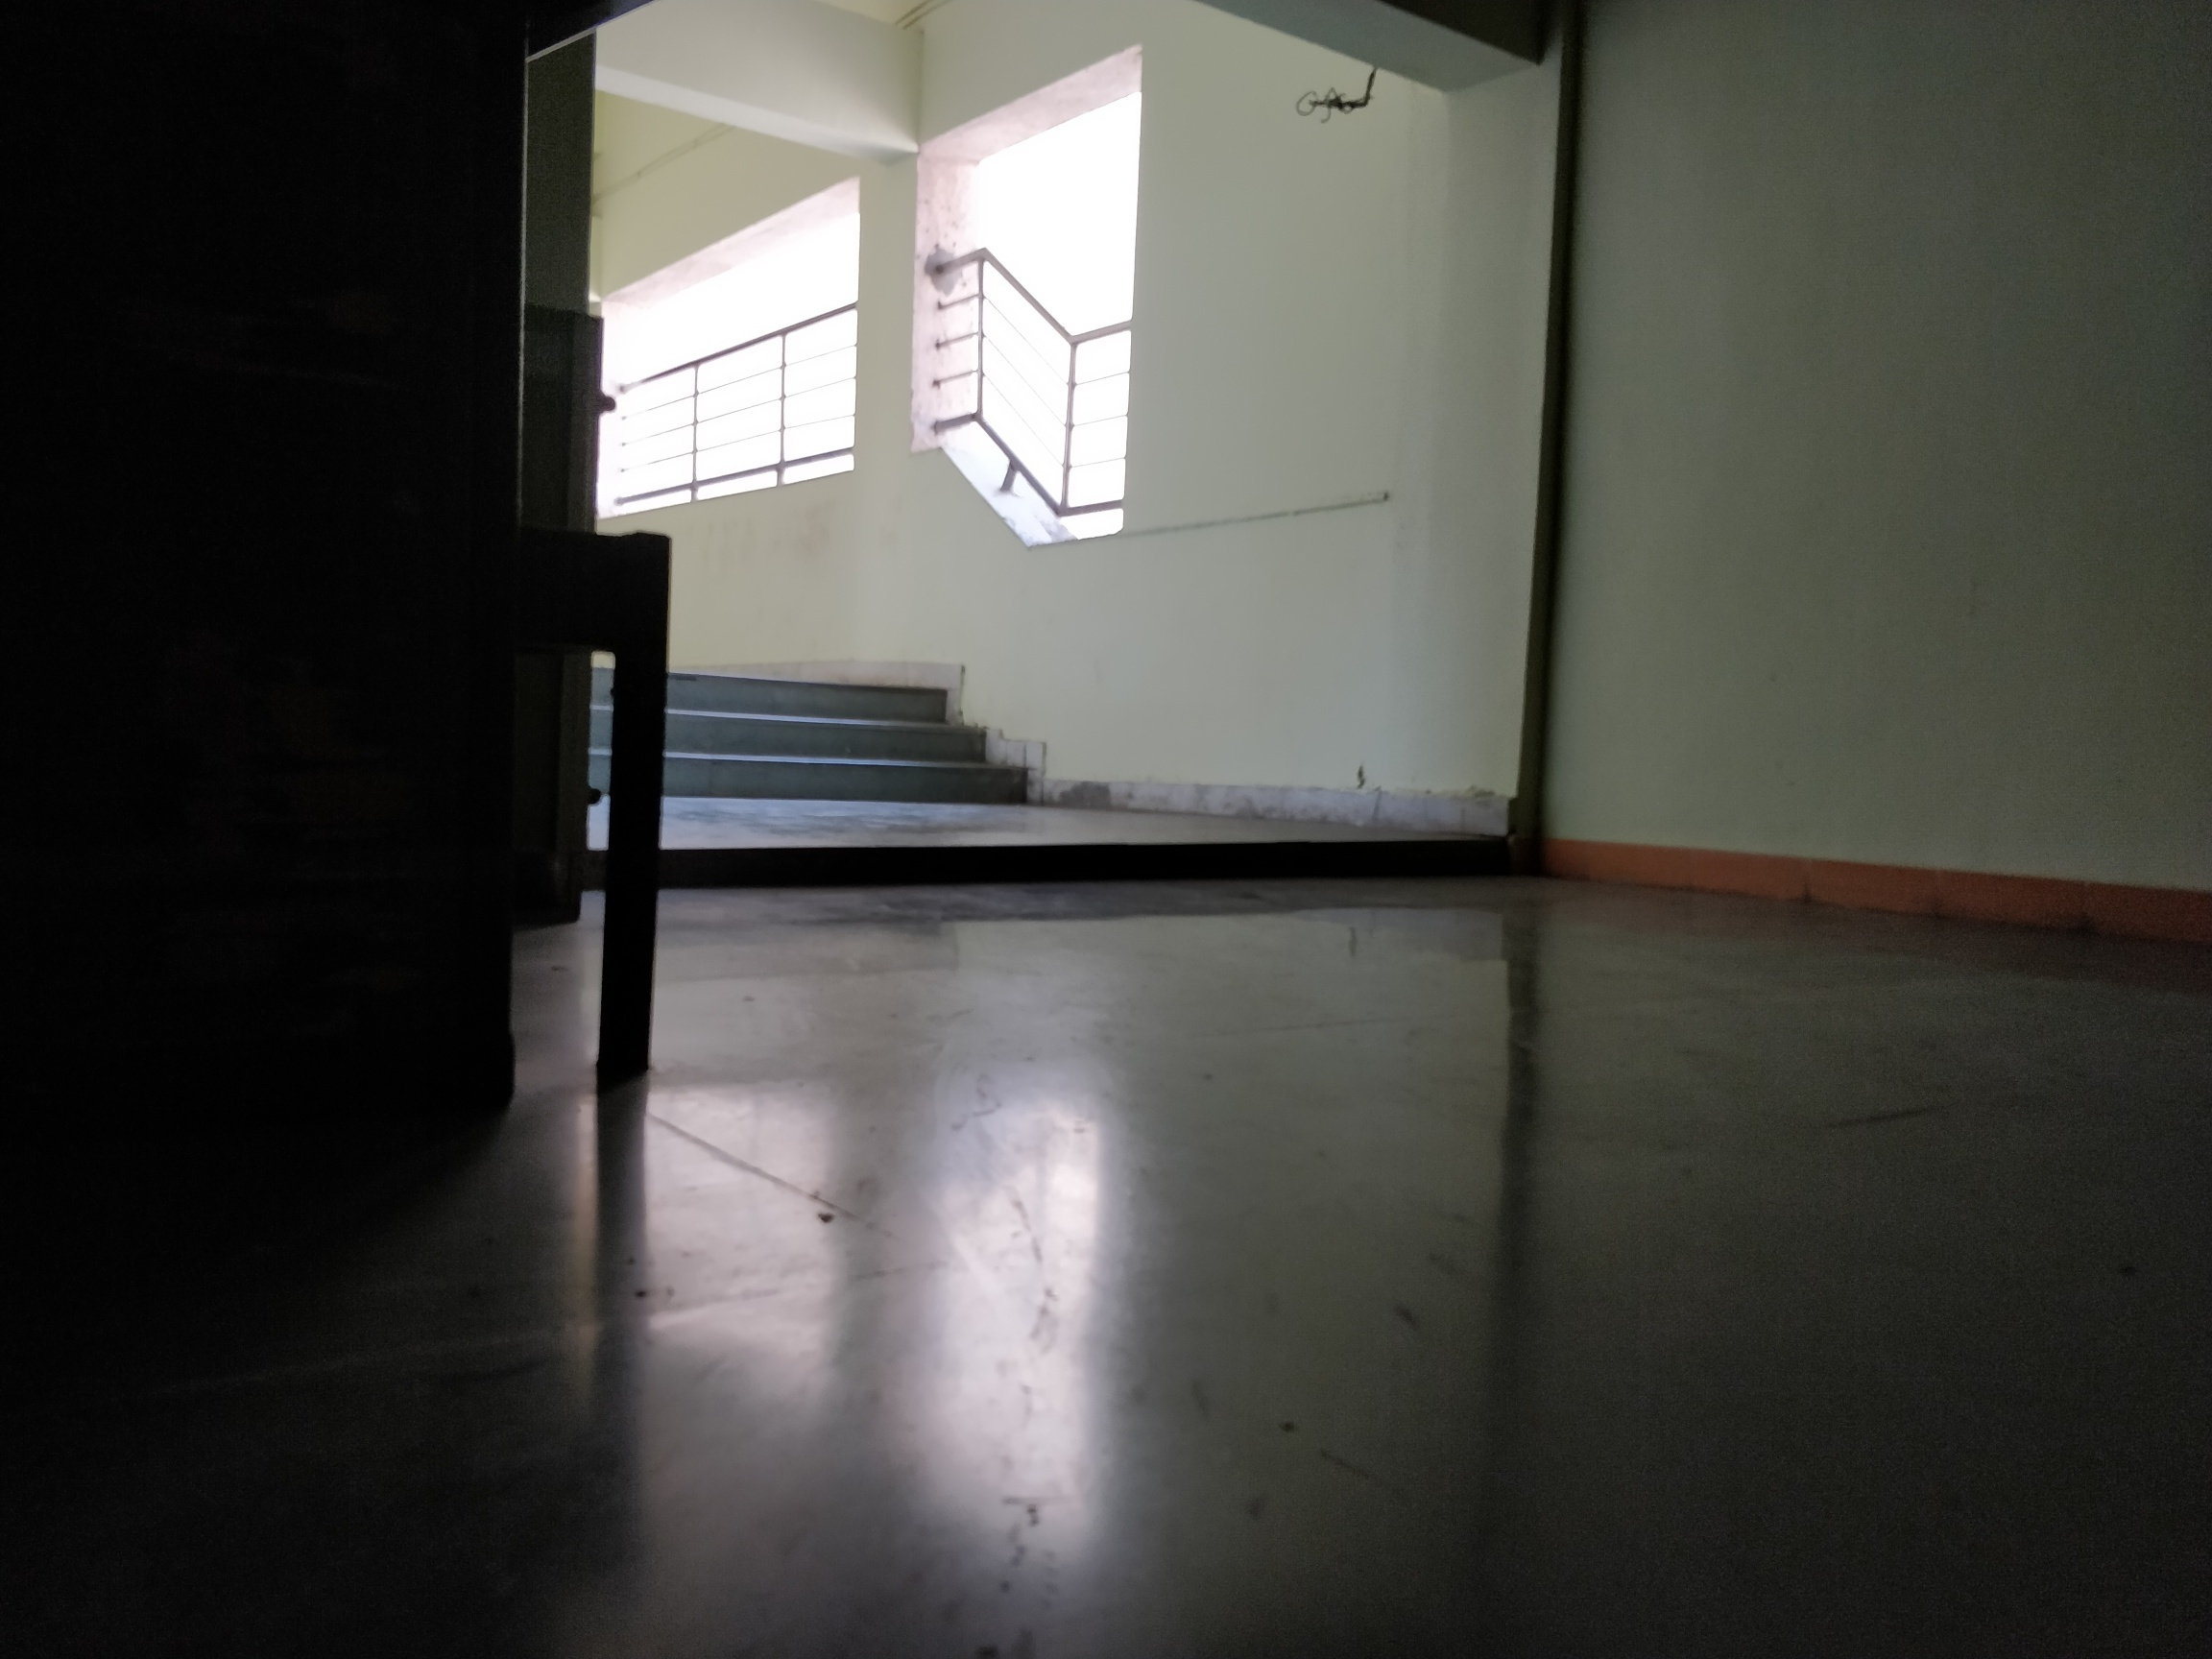stairs_up: (589, 641, 1033, 812)
